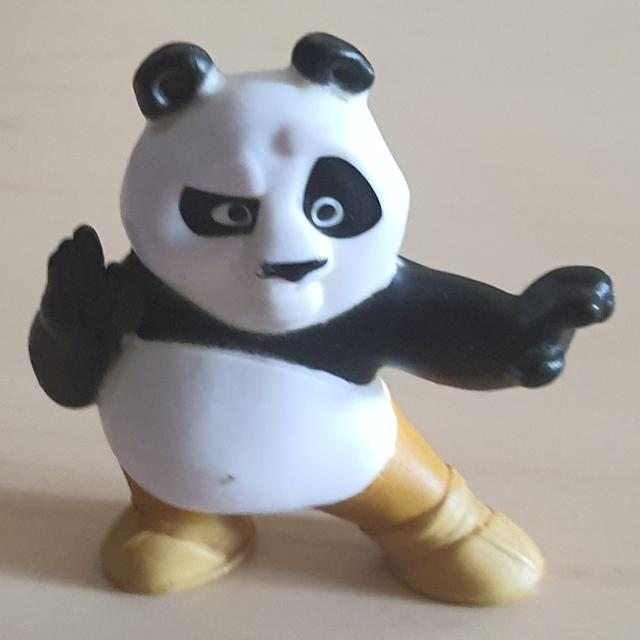Panda: (27, 30, 616, 607)
